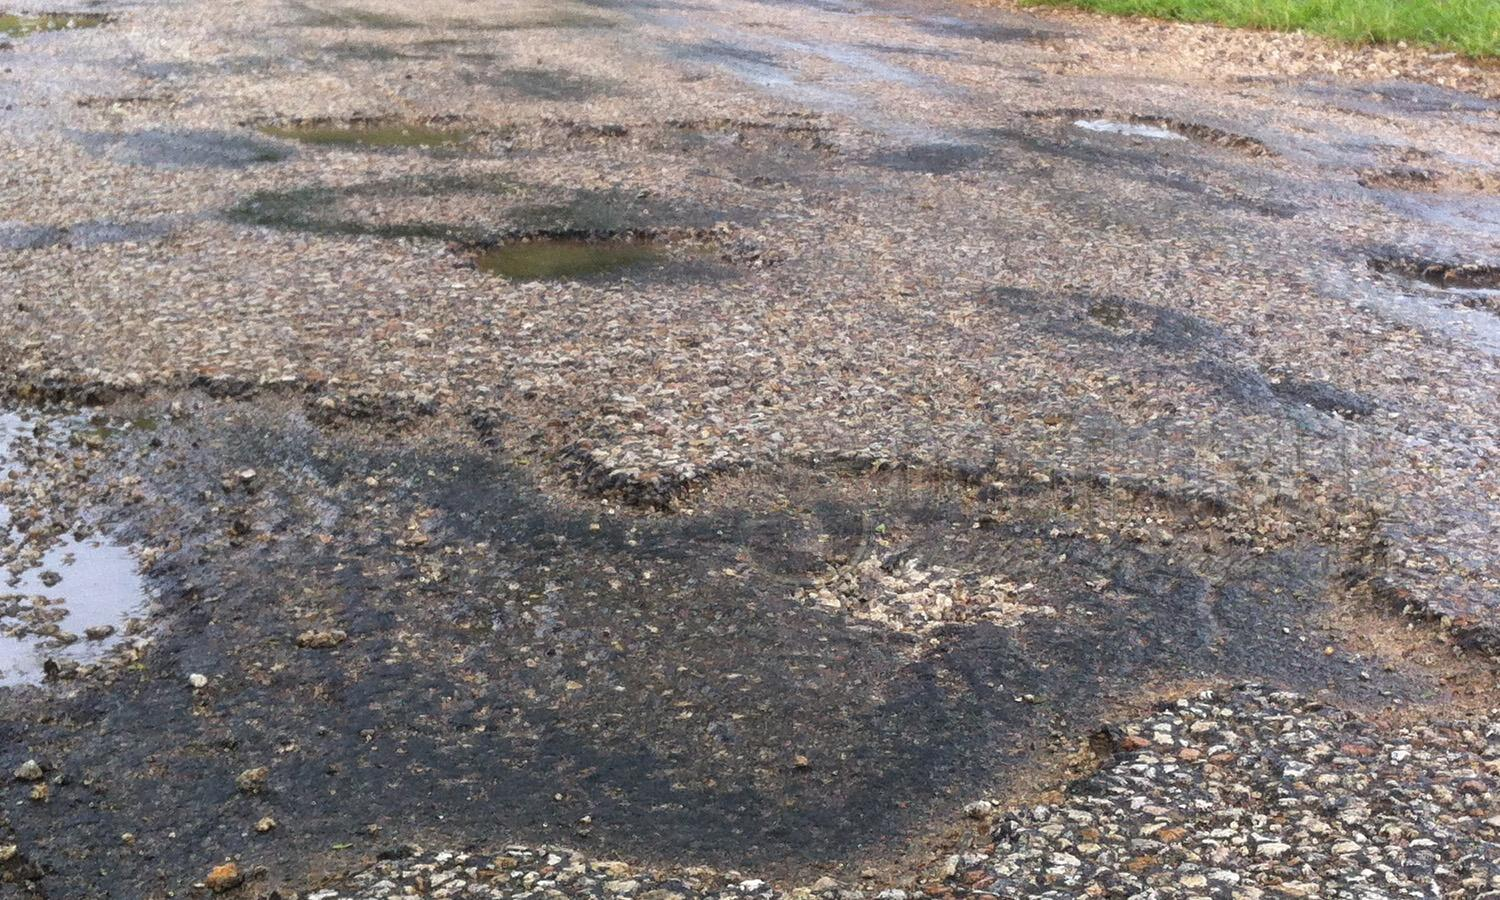Pothole: (0, 328, 1500, 900), (157, 63, 820, 373), (926, 101, 1355, 187), (1381, 146, 1500, 336)
